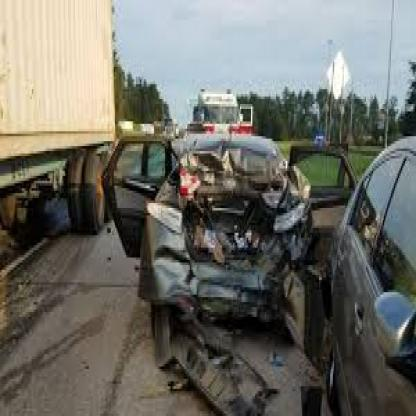accident: (94, 96, 382, 413)
